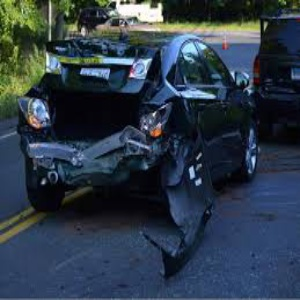bumper: (25, 131, 210, 190)
